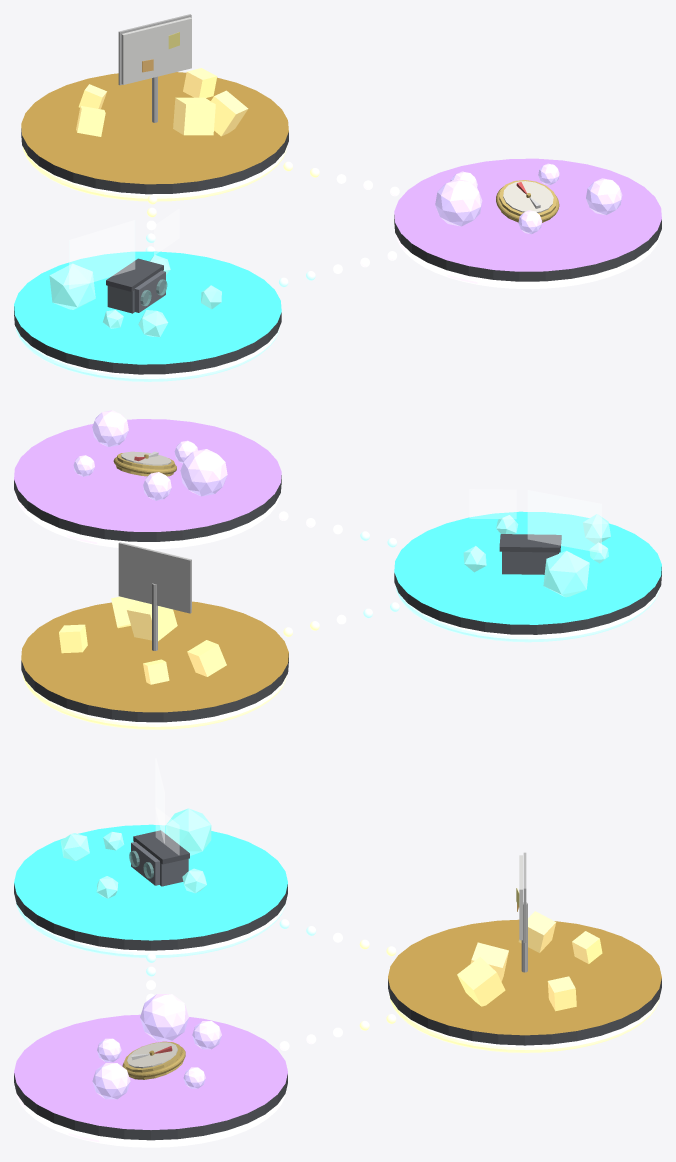
Rendered from ARScene.glb.
3 renders of one model, top to bottom at view 1: azimuth 30°, elevation 25°; view 2: azimuth 150°, elevation 25°; view 3: azimuth 270°, elevation 25°, orthographic. The views are drawn at different scales.
Parts seen in each view (by area): view 1: Cylinder_Ocre, Cylinder_Cyan, Cylinder_Violet, Board_Panel, Holo_Main, Ring_Cyan.001, Ring_Violet.001, Ring_Ocre.001, Prim_Sphere_Main, Prim_Octahedron_Main, Cube_Dispersed_4, Compass_Face (+9 smaller); view 2: Cylinder_Ocre, Cylinder_Violet, Cylinder_Cyan, Board_Frame, Holo_Main, Ring_Ocre.001, Ring_Cyan.001, Ring_Violet.001, Prim_Sphere_Main, Prim_Octahedron_Main, Holo_Secondary, Cube_Dispersed_4 (+10 smaller); view 3: Cylinder_Ocre, Cylinder_Cyan, Cylinder_Violet, Ring_Ocre.001, Ring_Violet.001, Ring_Cyan.001, Prim_Sphere_Main, Prim_Octahedron_Main, Cube_Dispersed_0, Sphere_Small_3, VR_TopBand, Cube_Dispersed_1 (+10 smaller).
Part boxes in pixels (box(x1,y1,x2,y2)): Cylinder_Ocre: box(21, 72, 288, 194); Cylinder_Cyan: box(14, 251, 281, 374); Cylinder_Violet: box(394, 158, 661, 281); Board_Panel: box(121, 17, 191, 84); Holo_Main: box(69, 220, 134, 288); Ring_Cyan.001: box(15, 326, 280, 381); Ring_Violet.001: box(396, 233, 660, 288); Ring_Ocre.001: box(23, 145, 287, 201); Prim_Sphere_Main: box(435, 179, 482, 226); Prim_Octahedron_Main: box(49, 263, 95, 309); Cube_Dispersed_4: box(173, 97, 215, 135); Compass_Face: box(503, 181, 553, 212); Cylinder_Ocre: box(21, 601, 288, 722); Cylinder_Violet: box(14, 419, 281, 541); Cylinder_Cyan: box(394, 511, 661, 634); Board_Frame: box(118, 542, 191, 613); Holo_Main: box(528, 490, 601, 552); Ring_Ocre.001: box(22, 673, 287, 729); Ring_Cyan.001: box(395, 586, 660, 642); Ring_Violet.001: box(15, 493, 279, 549); Prim_Sphere_Main: box(180, 449, 227, 496); Prim_Octahedron_Main: box(543, 551, 589, 597); Holo_Secondary: box(469, 489, 516, 518); Cube_Dispersed_4: box(127, 601, 177, 641); Cylinder_Ocre: box(388, 919, 661, 1045); Cylinder_Cyan: box(14, 824, 287, 950); Cylinder_Violet: box(14, 1014, 287, 1140); Ring_Ocre.001: box(389, 995, 660, 1052); Ring_Violet.001: box(15, 1090, 286, 1147); Ring_Cyan.001: box(15, 900, 286, 957); Prim_Sphere_Main: box(140, 994, 188, 1040); Prim_Octahedron_Main: box(166, 808, 211, 855); Cube_Dispersed_0: box(457, 957, 505, 1006); Sphere_Small_3: box(92, 1063, 130, 1099); VR_TopBand: box(133, 830, 189, 864); Cube_Dispersed_1: box(518, 911, 556, 952).
Bounding box in the file's own units: 5.8 × 1.12 × 5.2.
